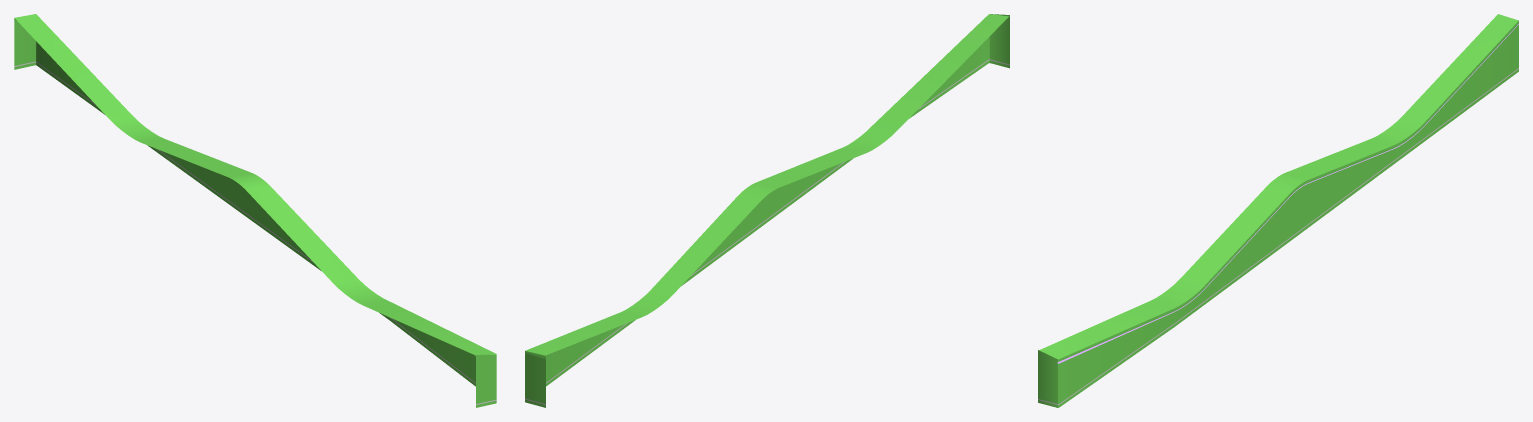
The model's file is Casino_WallDeco_01.fbx.
The picture shows the model from 3 angles, left to right: view 1: azimuth 30°, elevation 25°; view 2: azimuth 150°, elevation 25°; view 3: azimuth 330°, elevation 25°; orthographic projection.
Visible parts, largest first — view 1: Casino_WallDeco_01; view 2: Casino_WallDeco_01; view 3: Casino_WallDeco_01.
Part boxes in pixels (x1,y1,x2,y2): Casino_WallDeco_01: [14, 14, 496, 407]; Casino_WallDeco_01: [525, 14, 1009, 407]; Casino_WallDeco_01: [1038, 14, 1518, 407].
Size of the model in its own units: 221 by 449 by 7094.
